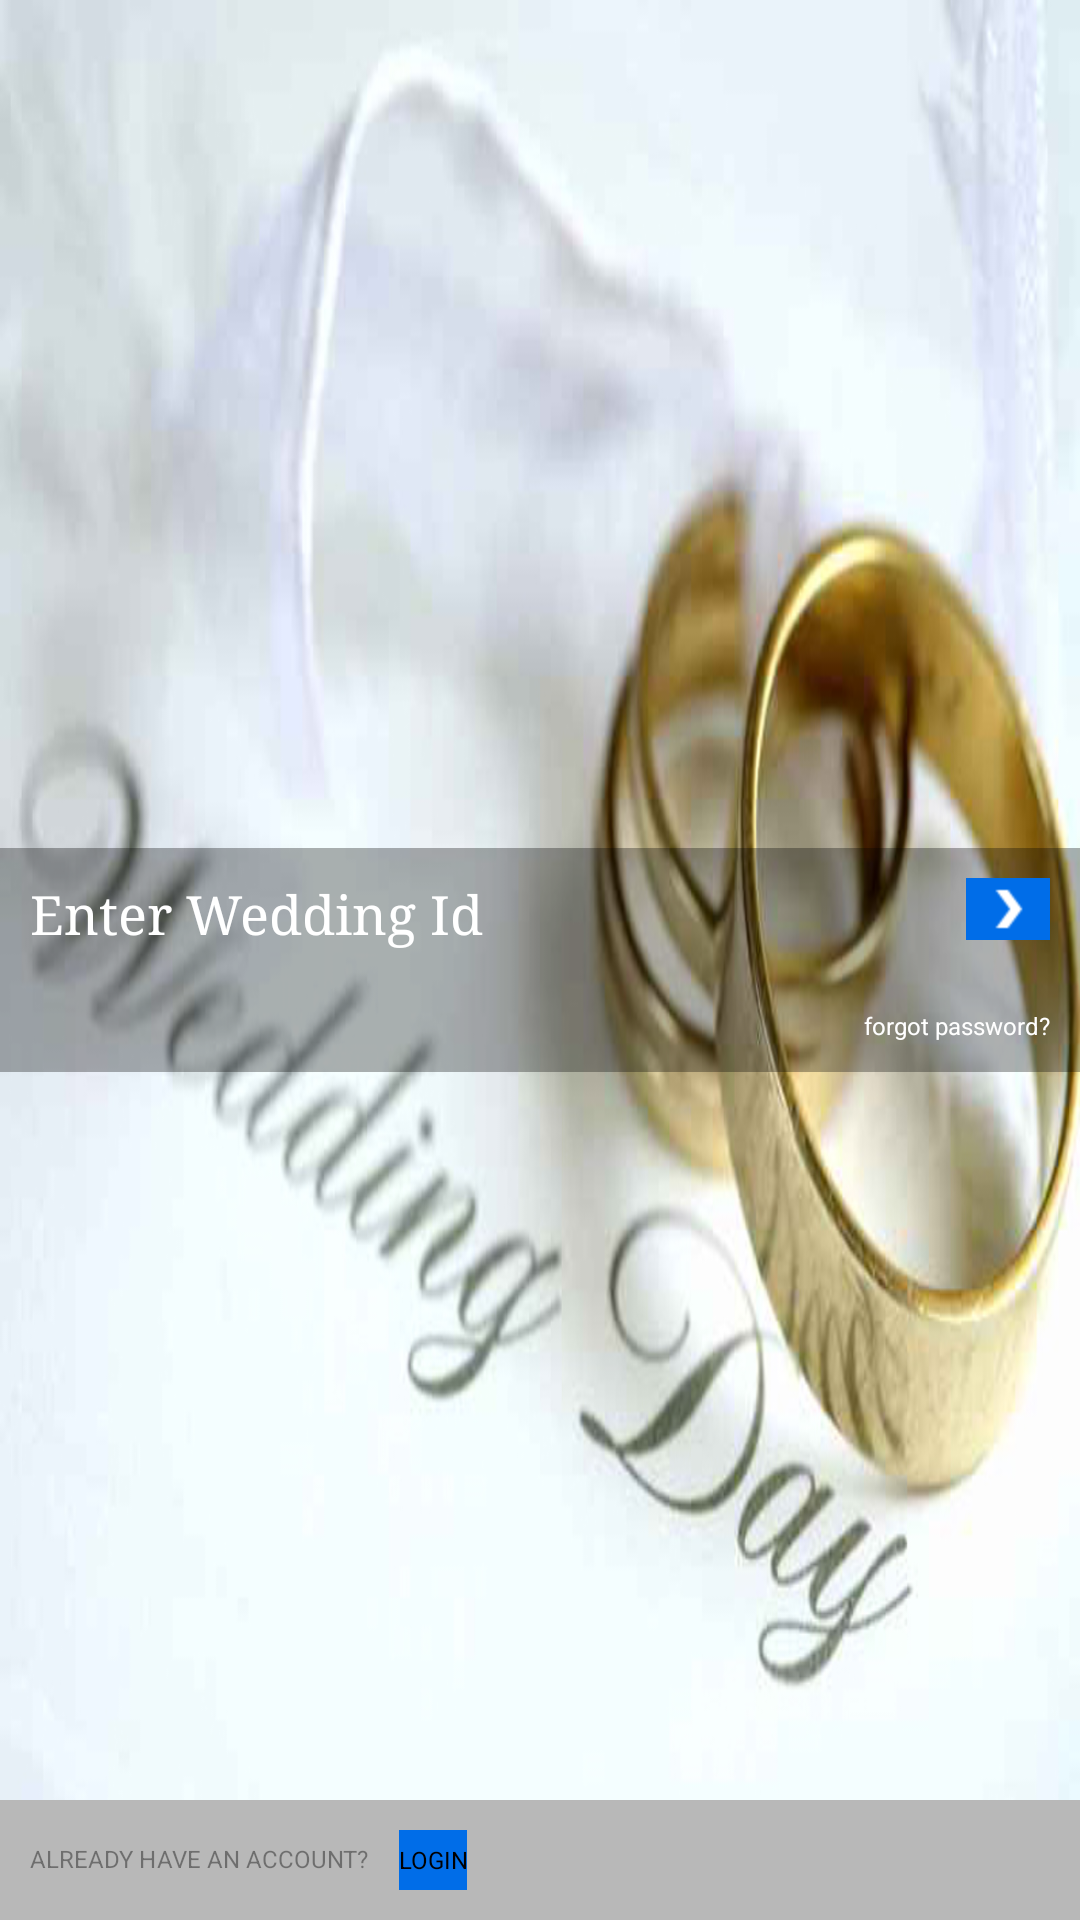

Named icons in this screenshot (1080px×1920px) and their centers, [x,y]:
arrowrtbtn: [1008,909]
